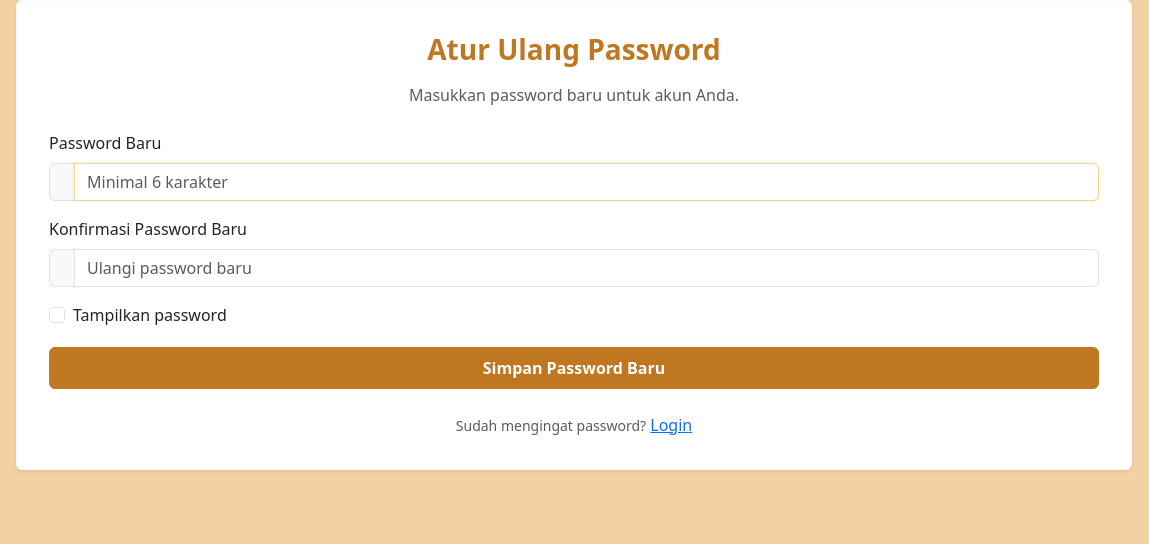
Halaman ResetPasswordPage › memanggil resetPassword dan menampilkan pesan sukses
This screenshot has width=1149, height=544.
In the password field labelled "Password Baru": (586, 182) [74,163,1099,201], type "rahasia123"
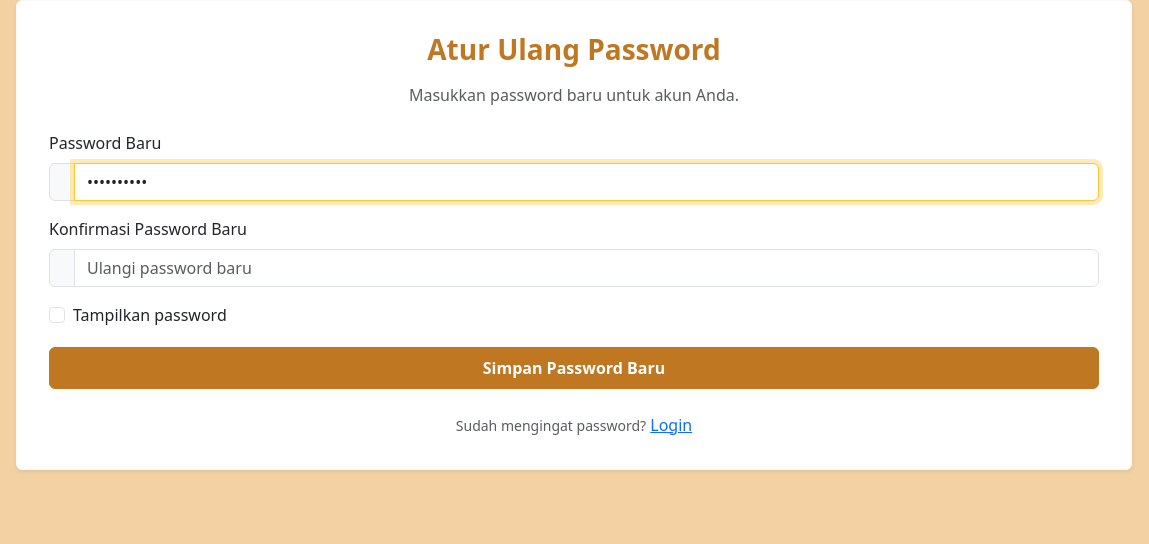
In the password field labelled "Konfirmasi Password Baru": (586, 268) [74,249,1099,287], type "rahasia123"
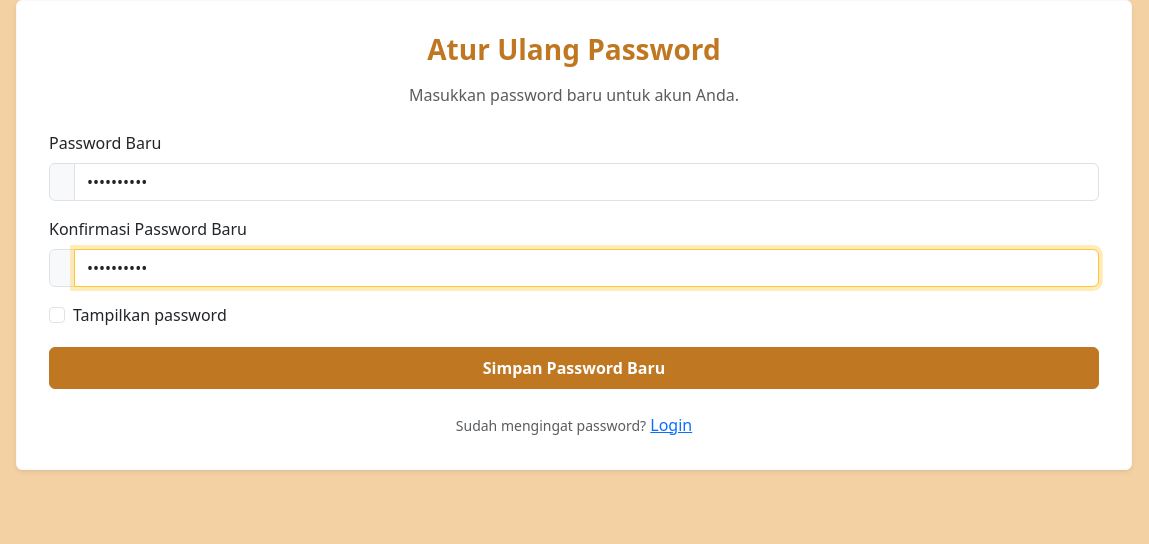
Click the button "Simpan Password Baru": (574, 368) [49,347,1099,389]
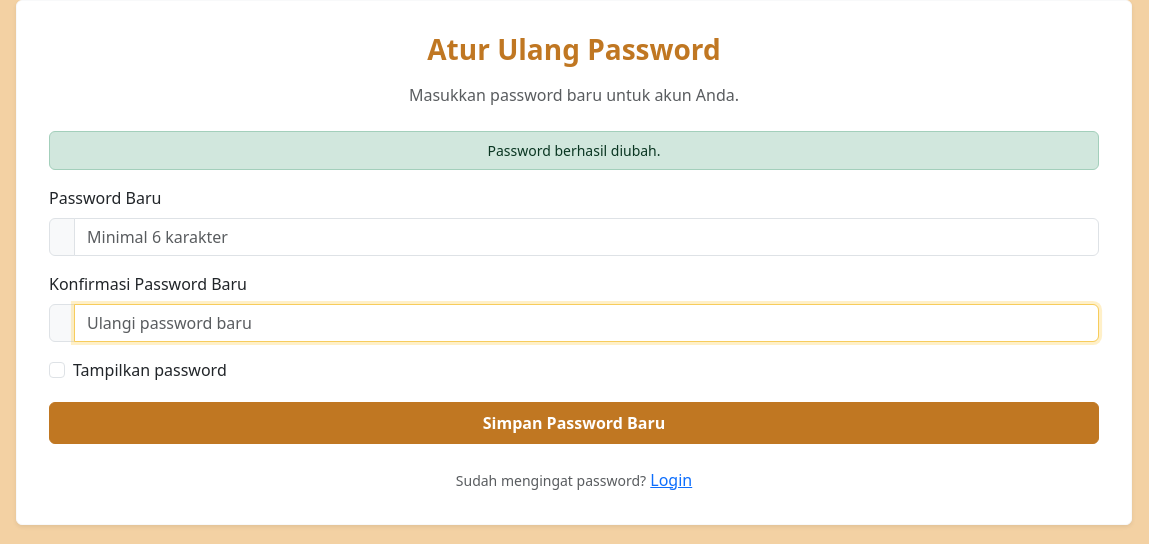
Check: the text "Password berhasil diubah." is shown, box [49,131,1099,170]
